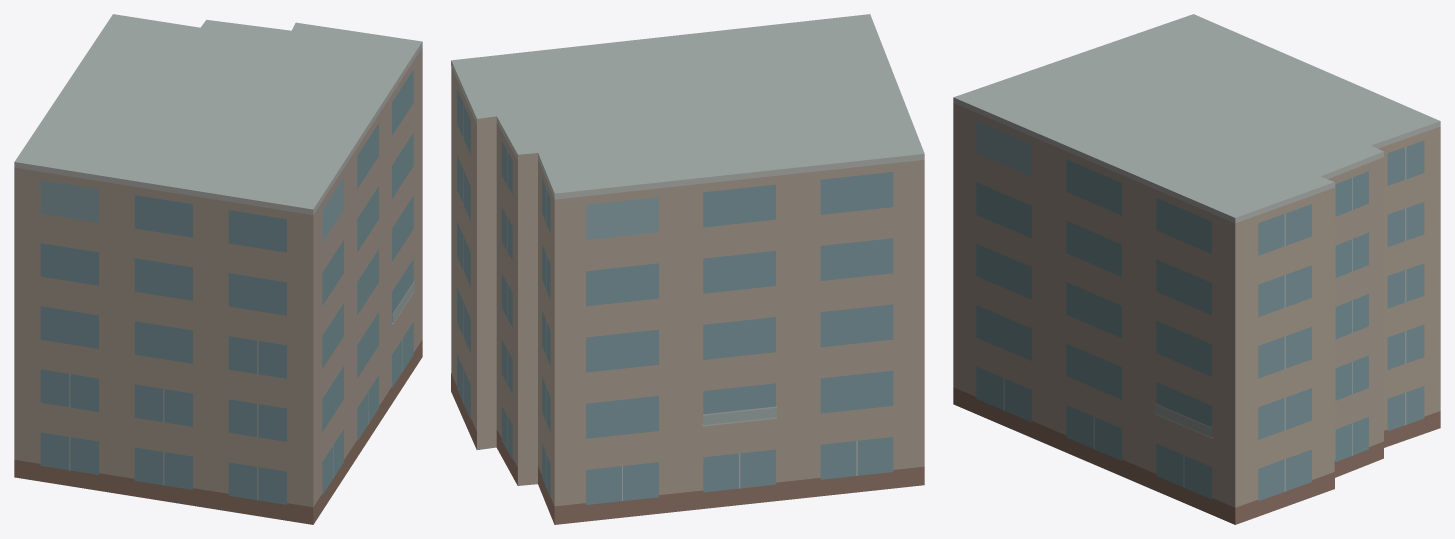
Rendered from survey-upis-33024774.glb.
The picture shows the model from 3 angles, left to right: view 1: azimuth 30°, elevation 25°; view 2: azimuth 150°, elevation 25°; view 3: azimuth 270°, elevation 25°; orthographic projection. The views are drawn at different scales.
Visible parts, largest first — view 1: survey-upis-33024774.tmp; view 2: survey-upis-33024774.tmp; view 3: survey-upis-33024774.tmp.
Part boxes in pixels (bbox=[...]): survey-upis-33024774.tmp: bbox=[14, 14, 422, 524]; survey-upis-33024774.tmp: bbox=[451, 14, 924, 524]; survey-upis-33024774.tmp: bbox=[953, 14, 1440, 524].
Size of the model in its own units: 19.39 by 13.6 by 19.58.
